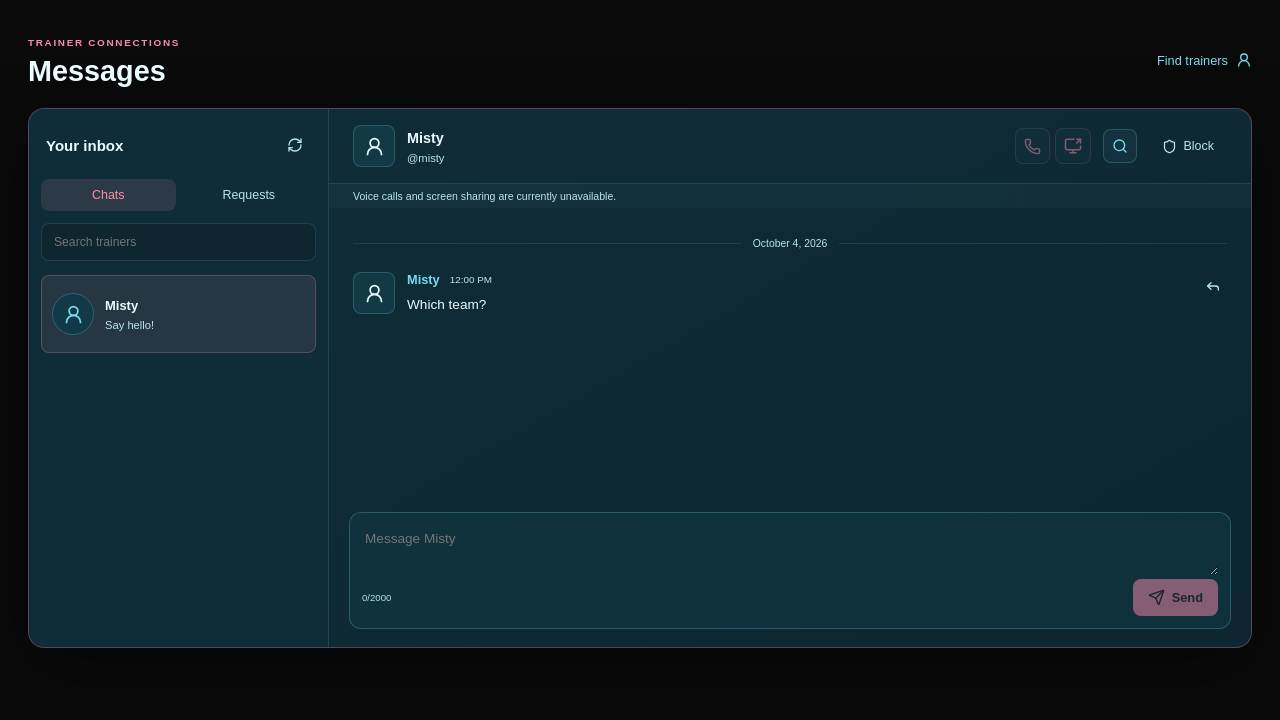
messages inbox › quotes a selected message and clears the reply after sending
The image size is (1280, 720).
Click the button named "Reply to message: Which team?" at (1213, 286), box [1199, 272, 1227, 300]
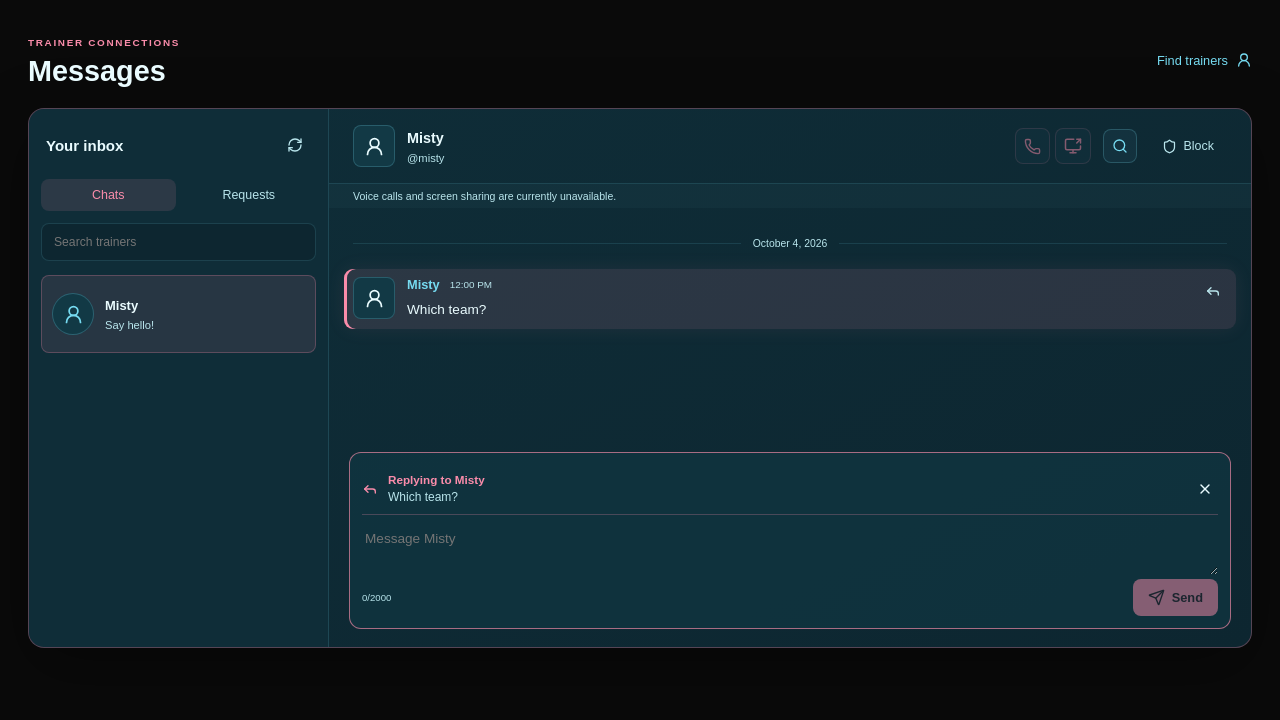
Expected: the text "Replying to Misty" is shown, [388, 473, 485, 486]
Type "Water!" into the text box labelled "Message Misty" at (790, 550), box [362, 525, 1218, 575]
Then press Enter
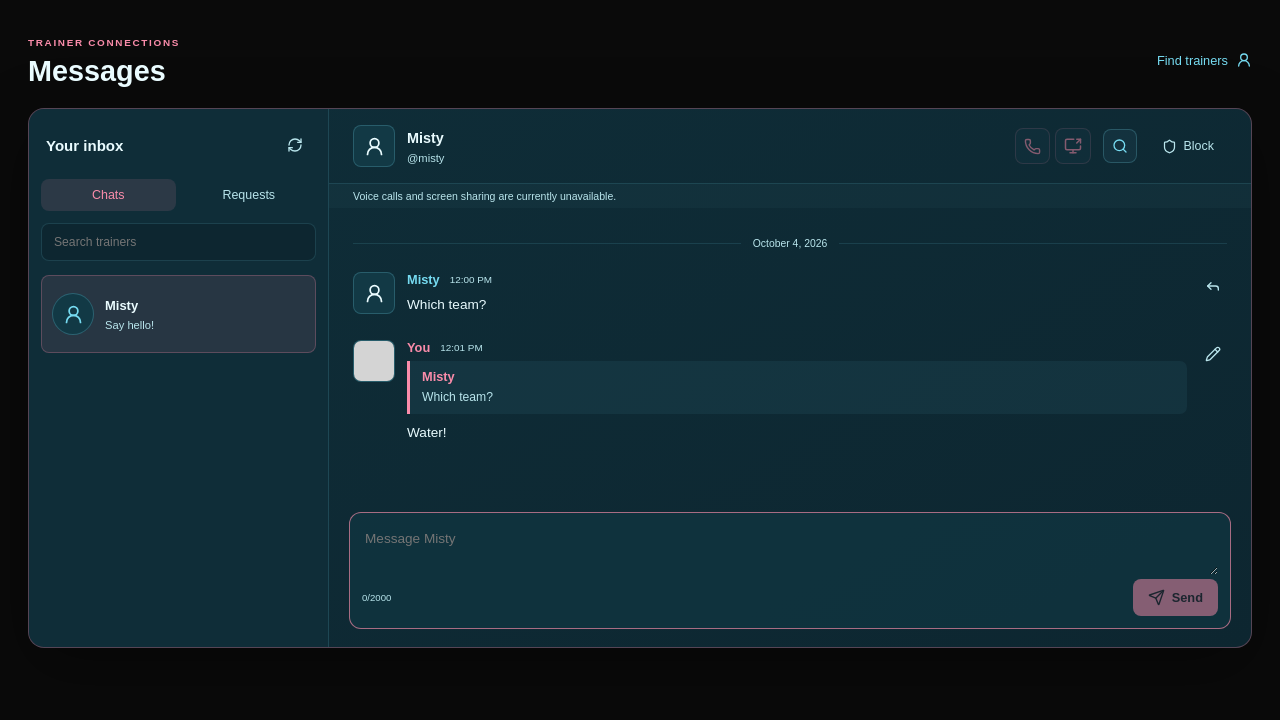
Expected: the element with class "chatQuote" shows "Which team?", [422, 390, 493, 404]
Expected: the text "Water!" is shown, [407, 425, 446, 440]
